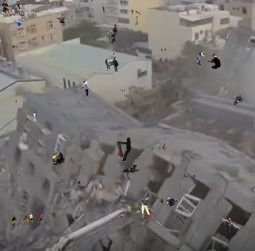Human: (152, 196, 180, 214), (196, 50, 221, 70), (113, 137, 132, 163), (11, 213, 43, 227), (1, 0, 28, 16), (52, 152, 74, 165), (105, 52, 119, 72), (80, 81, 95, 97), (140, 197, 151, 215), (224, 218, 236, 233), (110, 24, 118, 43), (123, 165, 141, 173), (233, 93, 243, 105), (77, 181, 88, 190), (56, 13, 65, 23), (156, 143, 166, 151), (14, 18, 22, 27), (131, 10, 141, 15), (32, 112, 37, 122), (184, 174, 195, 178), (102, 4, 105, 13), (135, 16, 138, 25), (18, 172, 23, 177), (11, 43, 15, 48), (161, 48, 166, 51), (122, 89, 125, 93), (15, 100, 17, 103), (225, 39, 227, 41), (120, 89, 121, 91), (33, 9, 34, 11)
